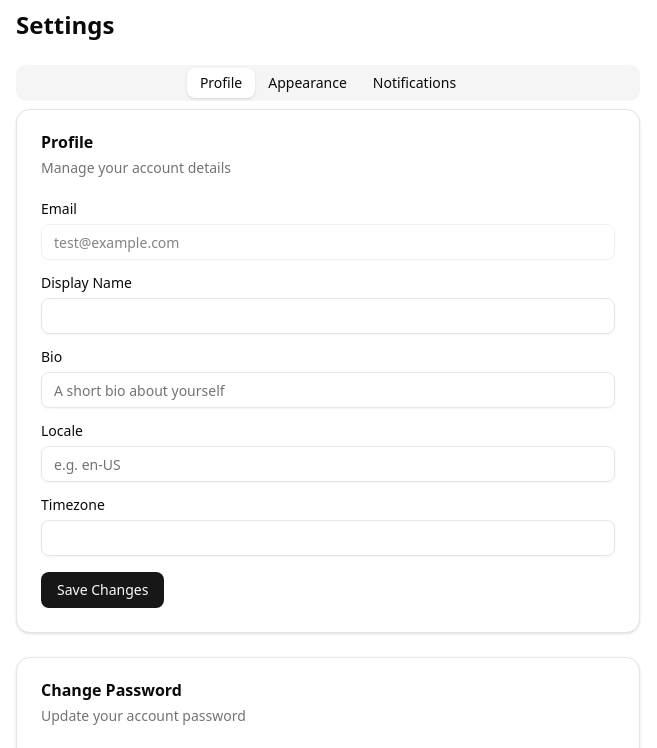
SettingsPage › should switch to Appearance tab on click
Click the tab "Appearance" at (308, 83), box [255, 68, 360, 98]
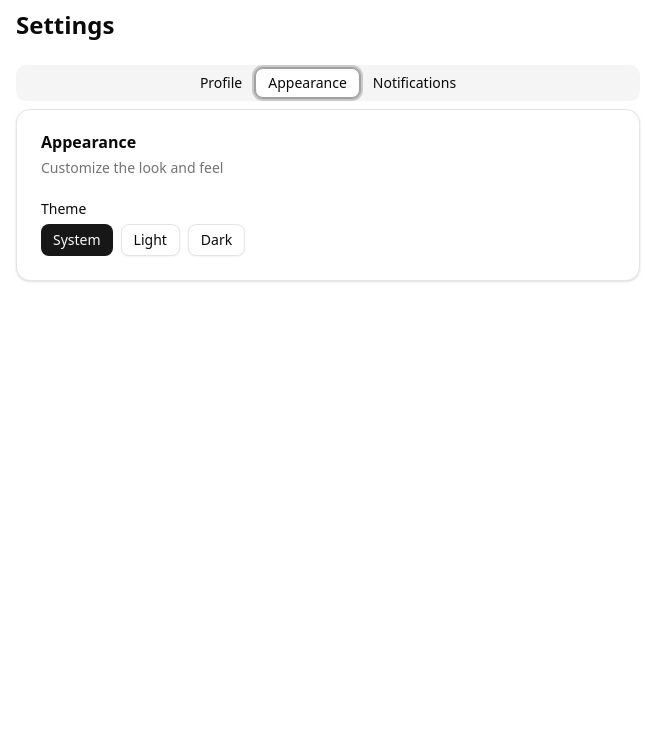
Check: the text "Theme" is shown, box [41, 199, 86, 218]
